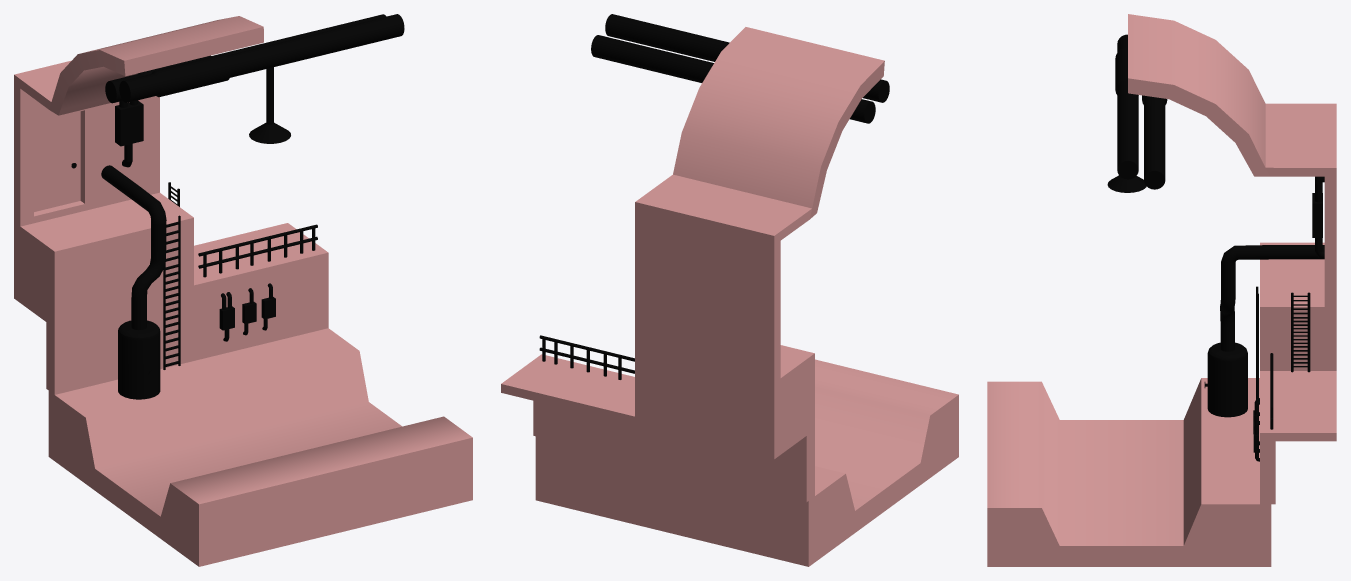
Rendered from sewer_room7.fbx.
The picture shows the model from 3 angles, left to right: view 1: azimuth 30°, elevation 25°; view 2: azimuth 150°, elevation 25°; view 3: azimuth 270°, elevation 25°; orthographic projection. The views are drawn at different scales.
Visible parts, largest first — view 1: room7_walls, room7_metal; view 2: room7_walls, room7_metal; view 3: room7_walls, room7_metal.
Boxes of the visible parts, bbox=[...] form: room7_walls: bbox=[14, 16, 472, 566]; room7_metal: bbox=[71, 14, 404, 399]; room7_walls: bbox=[501, 27, 958, 566]; room7_metal: bbox=[539, 14, 889, 379]; room7_walls: bbox=[987, 14, 1336, 566]; room7_metal: bbox=[1107, 34, 1324, 461].
Size of the model in its own units: 2.01 by 3.15 by 2.34.
